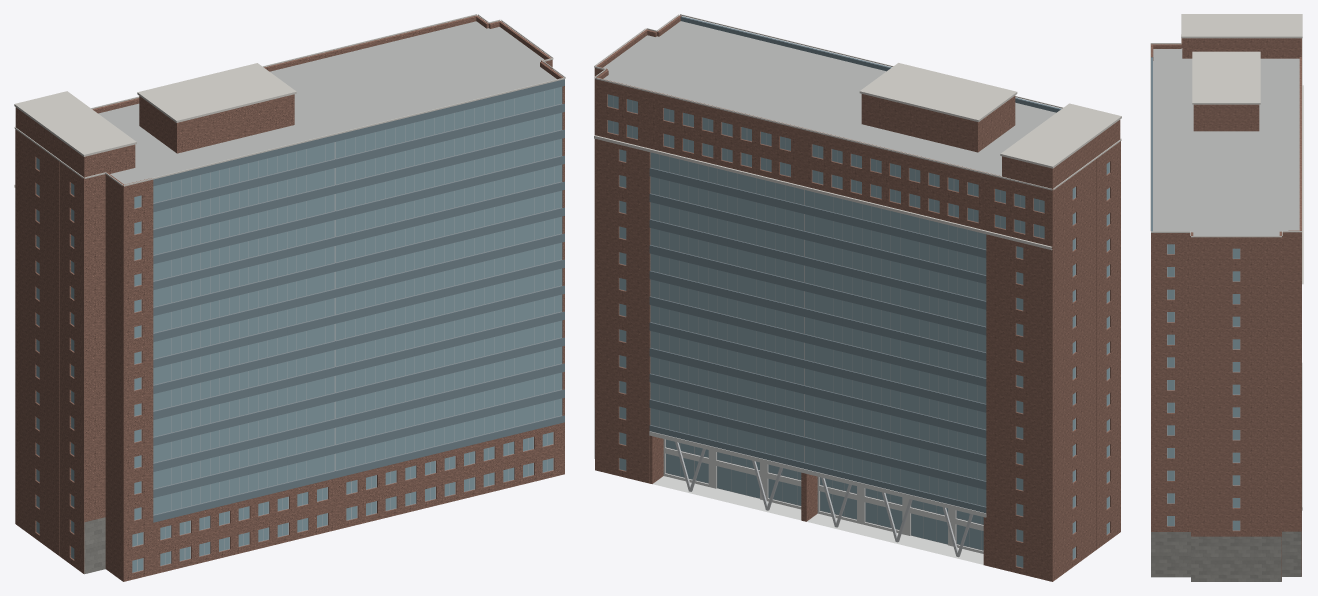
The picture shows the model from 3 angles, left to right: view 1: azimuth 30°, elevation 25°; view 2: azimuth 150°, elevation 25°; view 3: azimuth 270°, elevation 25°; orthographic projection. The views are drawn at different scales.
Parts seen in each view (by area): view 1: ricci__glass, ricci__brick, ricci__band, ricci__roof, ricci__frame, ricci__coping, ricci__stone; view 2: ricci__brick, ricci__glass, ricci__band, ricci__roof, ricci__frame, ricci__coping, ricci__soffit, ricci__strut; view 3: ricci__brick, ricci__roof, ricci__coping, ricci__stone, ricci__glass, ricci__frame, ricci__band.
Boxes of the visible parts, <box> form: ricci__glass: <box>36,86,562,572</box>; ricci__brick: <box>15,15,564,581</box>; ricci__band: <box>153,79,564,522</box>; ricci__roof: <box>98,21,556,184</box>; ricci__frame: <box>36,89,562,572</box>; ricci__coping: <box>14,14,565,187</box>; ricci__stone: <box>84,517,105,574</box>; ricci__brick: <box>594,15,1120,581</box>; ricci__glass: <box>608,94,1109,567</box>; ricci__band: <box>649,16,1061,512</box>; ricci__roof: <box>603,21,1056,176</box>; ricci__frame: <box>607,94,1109,567</box>; ricci__coping: <box>594,14,1121,250</box>; ricci__soffit: <box>649,431,986,564</box>; ricci__strut: <box>675,442,973,557</box>; ricci__brick: <box>1151,38,1301,581</box>; ricci__roof: <box>1153,48,1299,235</box>; ricci__coping: <box>1150,14,1303,284</box>; ricci__stone: <box>1151,531,1301,581</box>; ricci__glass: <box>1167,244,1239,530</box>; ricci__frame: <box>1167,244,1240,530</box>; ricci__band: <box>1151,57,1152,231</box>.
Size of the model in its own units: 72.75 by 62.15 by 23.31.
Materials: 9 (2 with a texture image).
